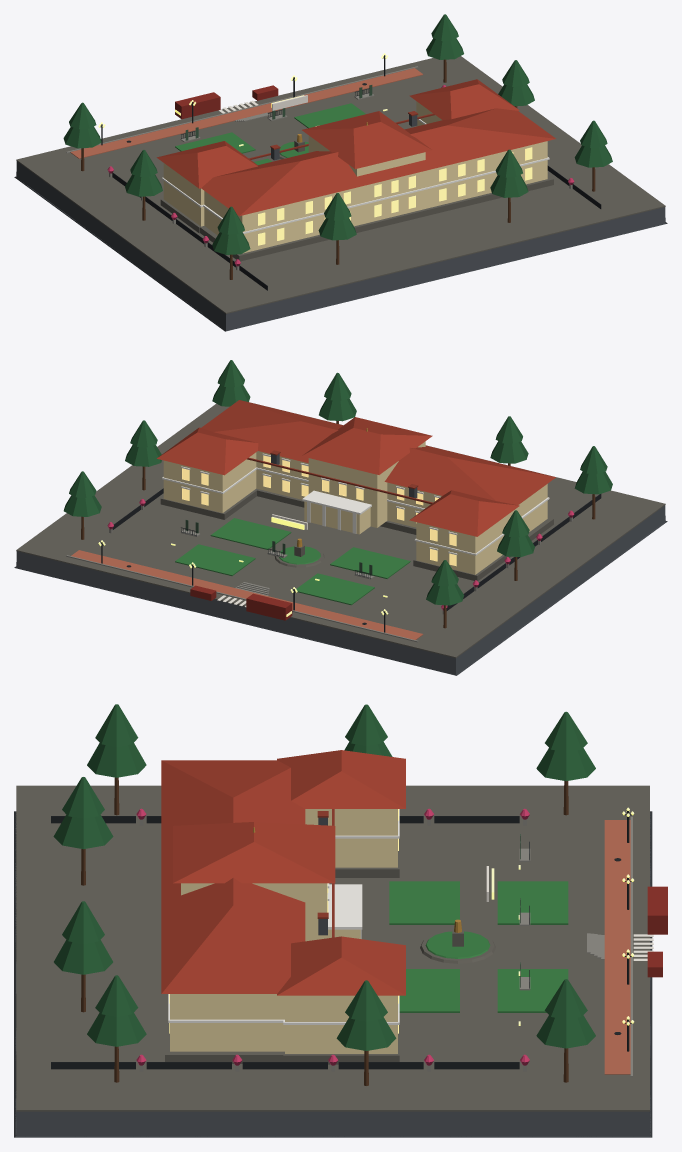
File: lm_27_vien_pasteur_da_lat.glb
The picture shows the model from 3 angles, top to bottom: view 1: azimuth 30°, elevation 25°; view 2: azimuth 150°, elevation 25°; view 3: azimuth 270°, elevation 25°; orthographic projection. The views are drawn at different scales.
Visible parts, largest first — view 1: Foundation_Plinth_Trim, Pasteur_Main_Laboratory_Hip_Roof, Foundation_Skirt, Pasteur_Ochre_Yellow_Walls, Pasteur_Pine_Canopies, Pasteur_Central_Tower_Hip_Roof, Phase2_Interlocking_Brick_Sidewalk, Pasteur_Ashlar_Stone_Plinth, Pasteur_Wing_Roof_W, Pasteur_Wing_Roof_E, Pasteur_Glowing_Lab_Windows, Pasteur_Parterre_Gardens (+5 smaller); view 2: Foundation_Plinth_Trim, Pasteur_Ochre_Yellow_Walls, Foundation_Skirt, Pasteur_Main_Laboratory_Hip_Roof, Pasteur_Pine_Canopies, Pasteur_Parterre_Gardens, Pasteur_Central_Tower_Hip_Roof, Pasteur_Wing_Roof_W, Pasteur_Wing_Roof_E, Pasteur_Ashlar_Stone_Plinth, Phase2_Interlocking_Brick_Sidewalk, Pasteur_Neoclassical_Cornices (+6 smaller); view 3: Foundation_Plinth_Trim, Pasteur_Main_Laboratory_Hip_Roof, Pasteur_Pine_Canopies, Foundation_Skirt, Pasteur_Ochre_Yellow_Walls, Pasteur_Parterre_Gardens, Pasteur_Central_Tower_Hip_Roof, Phase2_Interlocking_Brick_Sidewalk, Pasteur_Wing_Roof_W, Pasteur_Wing_Roof_E, Phase2_WroughtIron_Balconies_Railings_Manholes, Pasteur_Ashlar_Stone_Plinth (+5 smaller).
Part boxes in pixels (x1,y1,x2,y2): Foundation_Plinth_Trim: (16,56,665,313); Pasteur_Main_Laboratory_Hip_Roof: (201,108,555,216); Foundation_Skirt: (14,161,667,331); Pasteur_Ochre_Yellow_Walls: (163,101,547,253); Pasteur_Pine_Canopies: (63,14,612,254); Pasteur_Central_Tower_Hip_Roof: (302,111,432,169); Phase2_Interlocking_Brick_Sidewalk: (70,68,423,158); Pasteur_Ashlar_Stone_Plinth: (160,140,553,261); Pasteur_Wing_Roof_W: (156,141,257,188); Pasteur_Wing_Roof_E: (409,79,519,120); Pasteur_Glowing_Lab_Windows: (258,147,532,245); Pasteur_Parterre_Gardens: (175,103,365,164); Foundation_Plinth_Trim: (16,403,665,658); Pasteur_Ochre_Yellow_Walls: (163,441,547,574); Foundation_Skirt: (14,505,667,675); Pasteur_Main_Laboratory_Hip_Roof: (201,400,555,505); Pasteur_Pine_Canopies: (63,360,612,605); Pasteur_Parterre_Gardens: (175,518,410,605); Pasteur_Central_Tower_Hip_Roof: (302,417,432,474); Pasteur_Wing_Roof_W: (409,490,519,536); Pasteur_Wing_Roof_E: (157,427,258,475); Pasteur_Ashlar_Stone_Plinth: (160,488,553,580); Phase2_Interlocking_Brick_Sidewalk: (71,550,423,639); Pasteur_Neoclassical_Cornices: (162,453,549,555); Foundation_Plinth_Trim: (16,785,649,1111); Pasteur_Main_Laboratory_Hip_Roof: (161,760,305,993); Pasteur_Pine_Canopies: (53,704,595,1050); Foundation_Skirt: (14,811,652,1137); Pasteur_Ochre_Yellow_Walls: (170,809,397,1053); Pasteur_Parterre_Gardens: (389,881,568,1012); Pasteur_Central_Tower_Hip_Roof: (173,822,335,883); Phase2_Interlocking_Brick_Sidewalk: (604,820,630,1074); Pasteur_Wing_Roof_W: (277,750,405,808); Pasteur_Wing_Roof_E: (277,936,405,995); Phase2_WroughtIron_Balconies_Railings_Manholes: (51,811,631,1069); Pasteur_Ashlar_Stone_Plinth: (165,838,495,1064).
Bounding box in the file's own units: 92.85 × 19.5 × 78.58.
